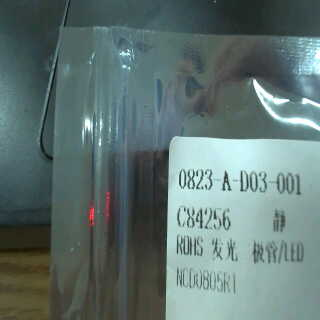LED: (207, 229, 308, 270)
